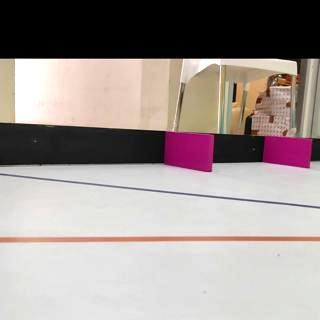xparking: (168, 133, 212, 168), (268, 138, 310, 164)
